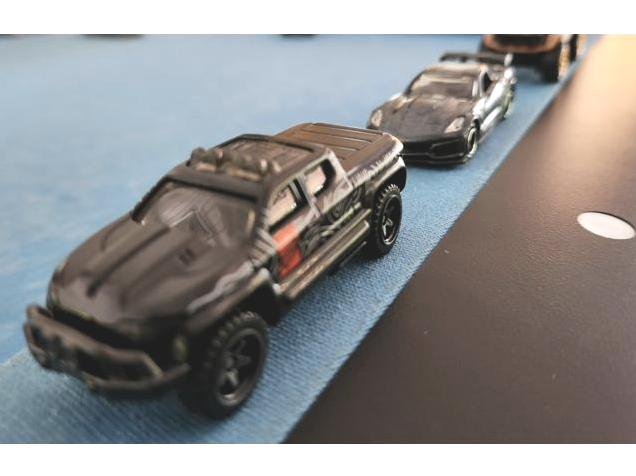toy-car: (22, 121, 407, 420), (366, 49, 518, 166), (479, 34, 586, 84)
